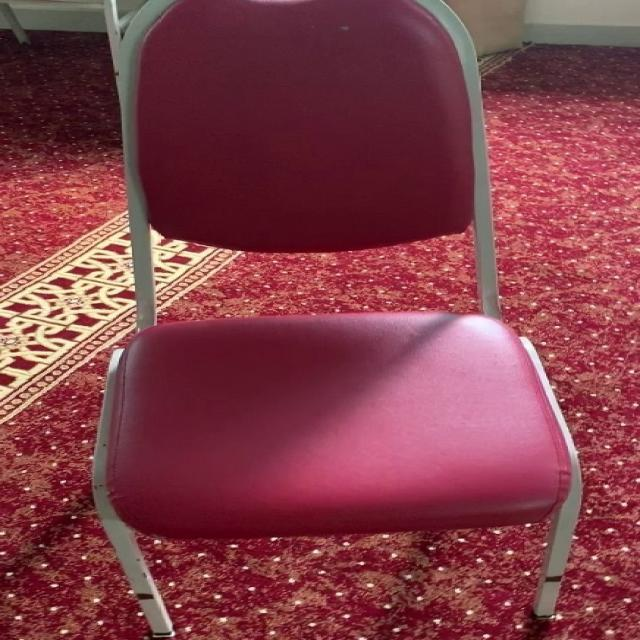chair: (92, 1, 586, 640)
